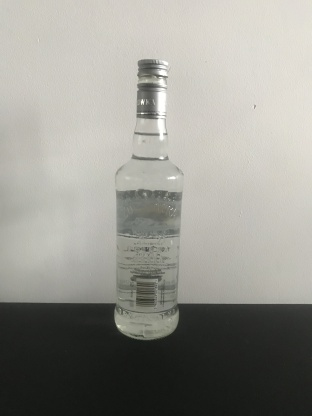nakretka: (135, 58, 169, 120)
